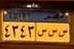3: (26, 24, 35, 39), (12, 24, 19, 39)
4: (4, 24, 11, 38), (20, 25, 26, 39)
seen: (47, 28, 58, 40), (58, 27, 68, 39), (37, 28, 47, 38)
